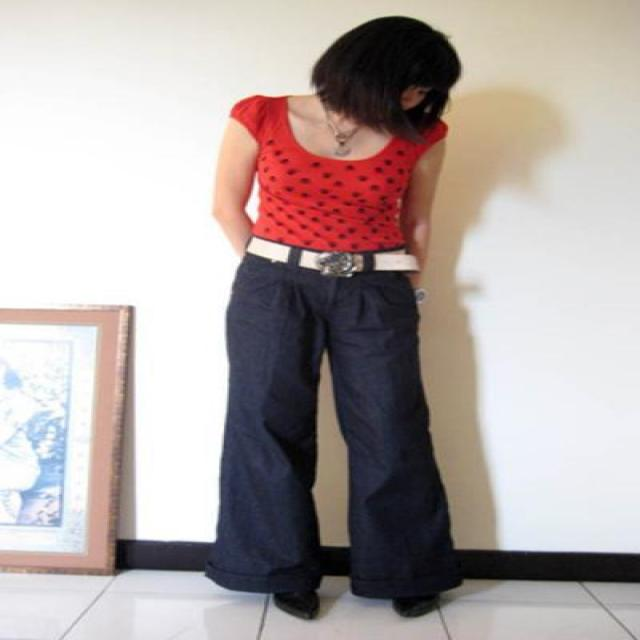pants: (194, 243, 464, 600)
shirt: (230, 95, 440, 256)
shoe: (274, 586, 438, 618)
